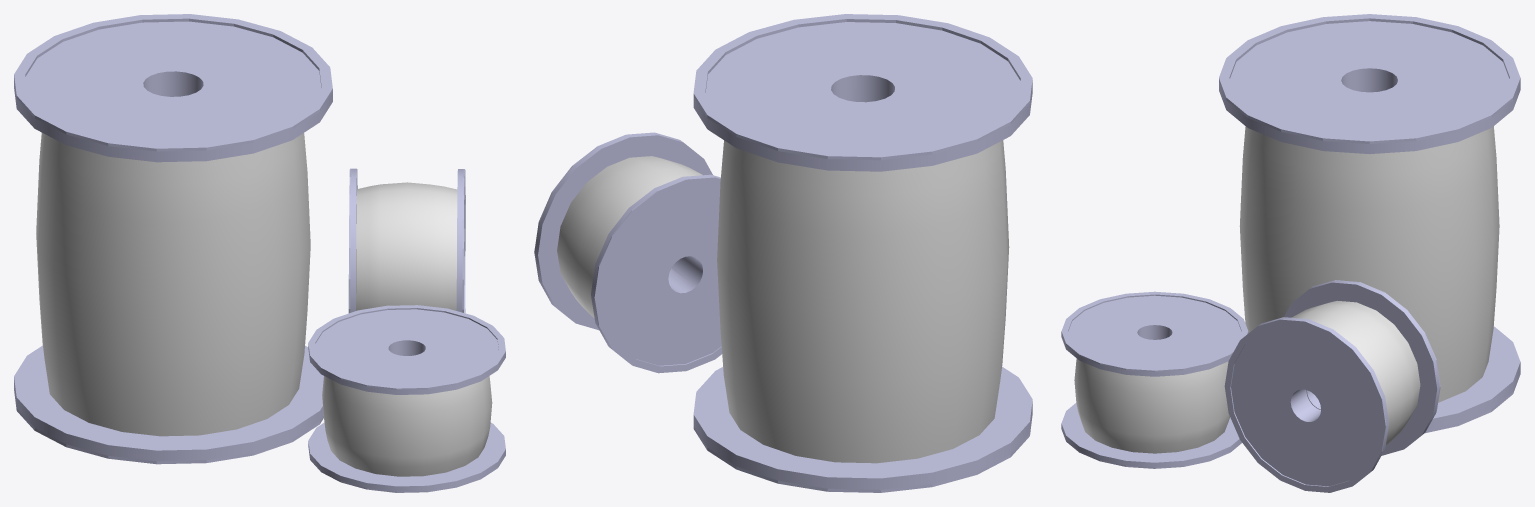
Rendered from ItemThreadA.fbx.
The picture shows the model from 3 angles, left to right: view 1: azimuth 30°, elevation 25°; view 2: azimuth 150°, elevation 25°; view 3: azimuth 270°, elevation 25°; orthographic projection. The views are drawn at different scales.
Parts seen in each view (by area): view 1: Thread1, Bobbin1u, Bobbin2u, Thread2, Thread3, Bobbin1d, Bobbin2d, Bobbin3u, Bobbin3d; view 2: Thread1, Bobbin1u, Bobbin3d, Bobbin1d, Thread3, Bobbin3u; view 3: Thread1, Bobbin1u, Bobbin3u, Bobbin2u, Thread2, Thread3, Bobbin3d, Bobbin1d, Bobbin2d.
Boxes of the visible parts, x1,y1,x2,y2 form: Thread1: (36, 133, 310, 436); Bobbin1u: (14, 14, 332, 162); Bobbin2u: (308, 305, 505, 394); Thread2: (322, 376, 492, 476); Thread3: (356, 182, 457, 310); Bobbin1d: (14, 345, 323, 464); Bobbin2d: (308, 422, 505, 492); Bobbin3u: (456, 169, 465, 312); Bobbin3d: (348, 168, 357, 313); Thread1: (717, 140, 1009, 463); Bobbin1u: (693, 14, 1032, 171); Bobbin3d: (591, 174, 722, 373); Bobbin1d: (693, 366, 1032, 492); Thread3: (557, 156, 702, 317); Bobbin3u: (534, 132, 712, 330); Thread1: (1239, 126, 1499, 402); Bobbin1u: (1219, 14, 1520, 154); Bobbin3u: (1224, 317, 1388, 492); Bobbin2u: (1061, 291, 1248, 376); Thread2: (1074, 358, 1229, 453); Thread3: (1292, 300, 1420, 445); Bobbin3d: (1284, 280, 1440, 455); Bobbin1d: (1425, 326, 1520, 433); Bobbin2d: (1061, 403, 1241, 468).
Bounding box in the file's own units: 104 × 71.1 × 99.65.
